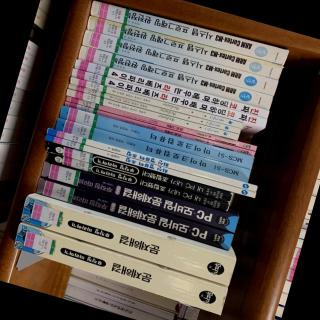book-spine: (11, 223, 228, 315), (19, 197, 235, 285), (34, 178, 233, 251), (39, 161, 239, 232), (44, 134, 256, 198), (46, 128, 257, 192), (81, 29, 278, 96), (53, 117, 250, 183), (89, 0, 289, 65), (77, 45, 272, 110), (85, 16, 282, 80), (58, 105, 253, 169), (74, 59, 269, 119), (70, 68, 267, 127), (46, 142, 232, 202), (45, 151, 229, 211), (63, 101, 255, 157), (65, 95, 256, 151), (65, 88, 238, 141), (69, 77, 243, 128), (67, 83, 240, 134)
